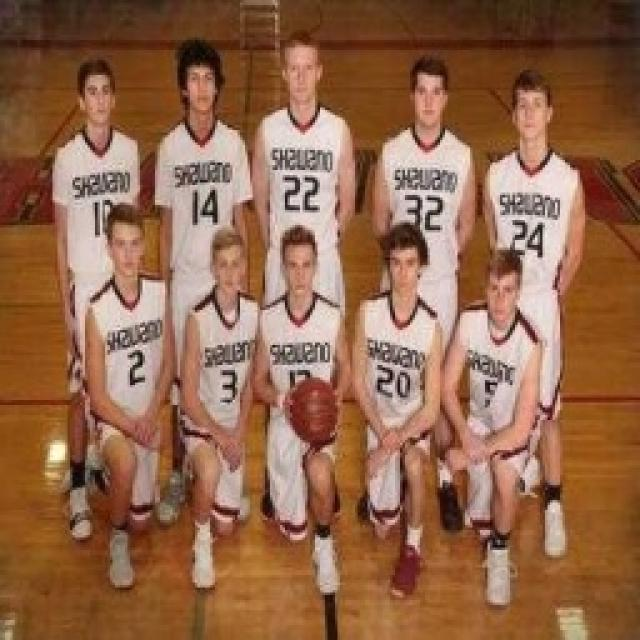rim: (284, 369, 346, 452)
